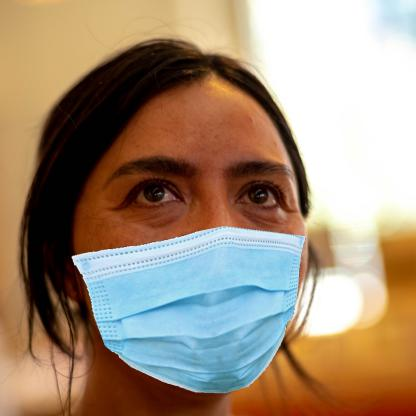Correctly_Masked: (76, 80, 309, 397)
